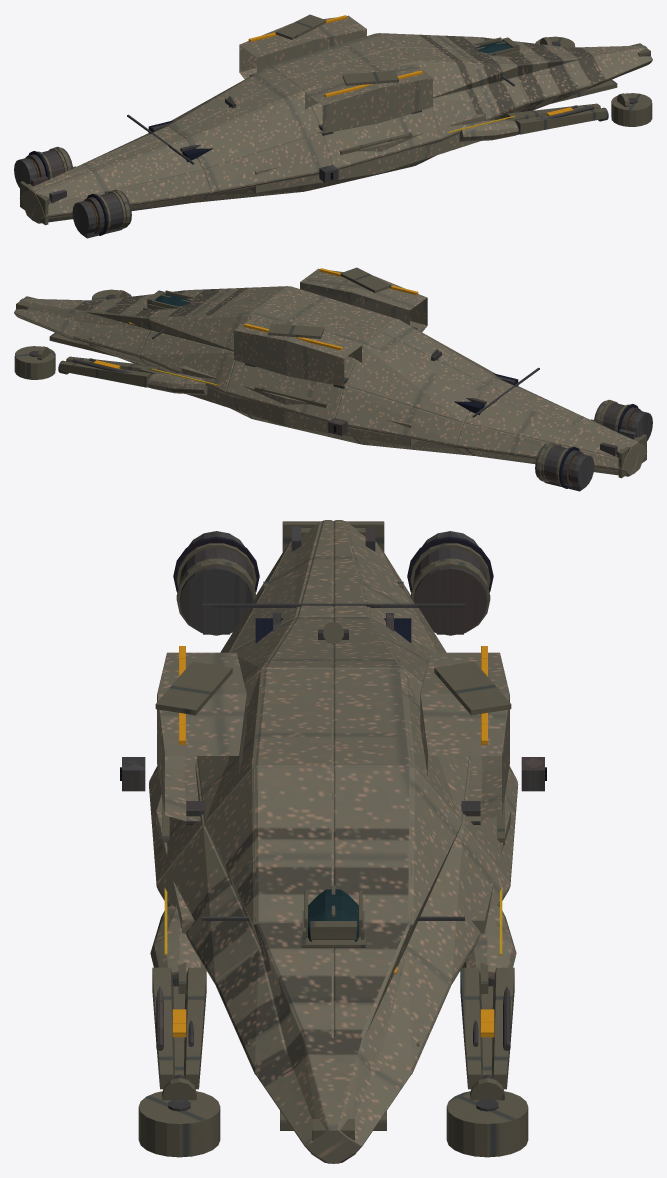
File: helios_cradle_production_v1_lod2.glb
3 views of the same model, one above another, from view 1: azimuth 30°, elevation 25°; view 2: azimuth 150°, elevation 25°; view 3: azimuth 270°, elevation 25° (orthographic). The views are drawn at different scales.
Parts seen in each view (by area): view 1: LOD2_Hull, LOD2_Armor, LOD2_Mechanical, LOD2_Radiator, LOD2_Warning; view 2: LOD2_Hull, LOD2_Armor, LOD2_Mechanical, LOD2_Warning, LOD2_Radiator; view 3: LOD2_Hull, LOD2_Armor, LOD2_Mechanical, LOD2_Radiator, LOD2_Warning, LOD2_Canopy.
Boxes of the visible parts, x1=… form: LOD2_Hull: x1=19, y1=15, x2=652, y2=223; LOD2_Armor: x1=20, y1=14, x2=652, y2=232; LOD2_Mechanical: x1=14, y1=41, x2=637, y2=238; LOD2_Radiator: x1=28, y1=120, x2=212, y2=235; LOD2_Warning: x1=248, y1=15, x2=573, y2=115; LOD2_Hull: x1=14, y1=268, x2=647, y2=476; LOD2_Armor: x1=14, y1=267, x2=646, y2=485; LOD2_Mechanical: x1=29, y1=294, x2=652, y2=491; LOD2_Warning: x1=93, y1=268, x2=418, y2=368; LOD2_Radiator: x1=454, y1=373, x2=638, y2=488; LOD2_Hull: x1=149, y1=520, x2=518, y2=1163; LOD2_Armor: x1=138, y1=521, x2=528, y2=1157; LOD2_Mechanical: x1=122, y1=526, x2=544, y2=1111; LOD2_Radiator: x1=173, y1=536, x2=493, y2=642; LOD2_Warning: x1=172, y1=646, x2=494, y2=1037; LOD2_Canopy: x1=307, y1=889, x2=359, y2=941.
Size of what is drawn, in the model's own units: 14.55 by 2.74 by 4.38.
Materials: 9 (9 with a texture image).
